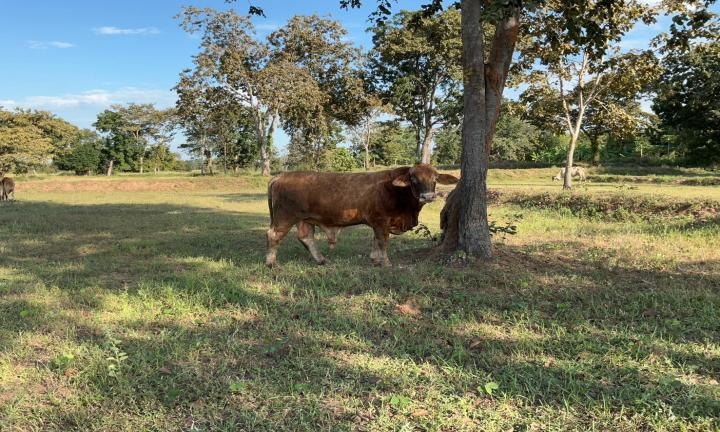Charolais: (267, 164, 458, 266)
